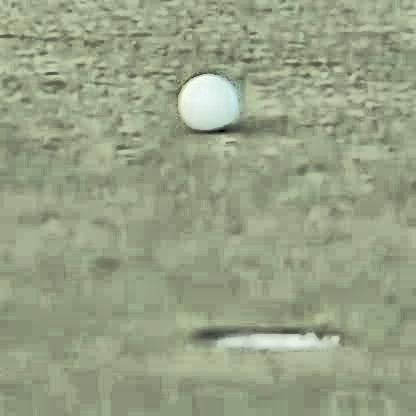golfball: (178, 70, 235, 127)
